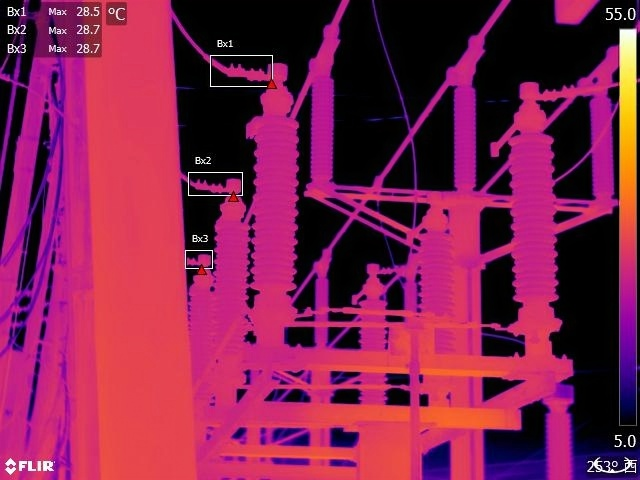post insulator: (505, 124, 568, 323), (246, 107, 301, 307), (212, 194, 254, 361), (417, 215, 457, 359), (447, 68, 484, 191), (305, 62, 341, 186), (583, 89, 620, 202), (354, 294, 390, 403), (190, 274, 214, 404), (310, 268, 334, 347)
switch: (488, 79, 548, 160), (399, 193, 452, 249), (347, 272, 387, 306)
